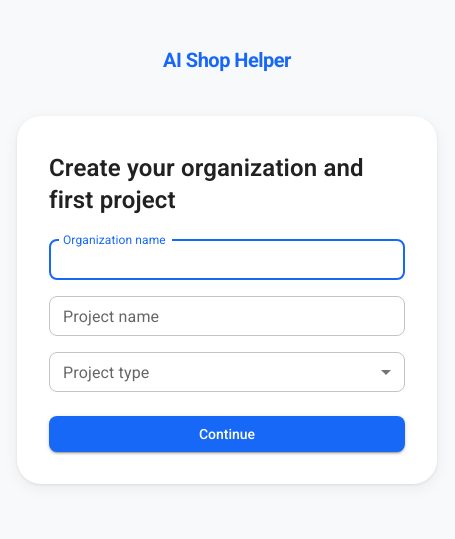
BootstrapWizard › rejects empty fields without creating anything
Click the button "Continue" at coordinates (227, 434), box [49,416,405,452]
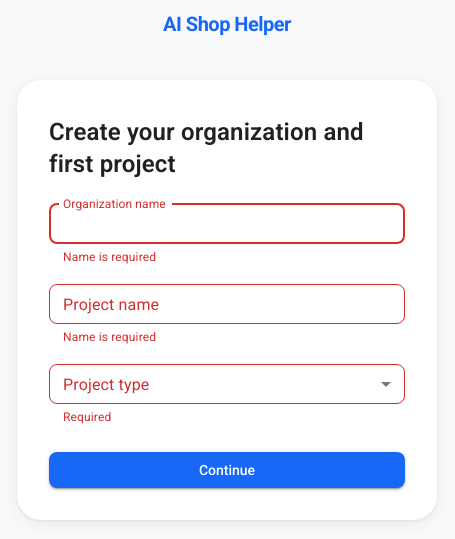
Result: the text "Name is required" is shown 2 times at [63,250,156,264]; [63,330,156,344]
Result: the text "Required" is shown at [63,410,111,424]
